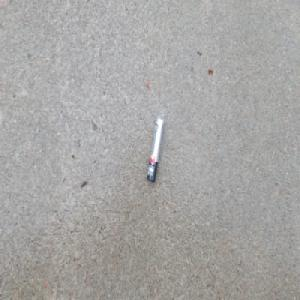Battery: (146, 116, 163, 184)
